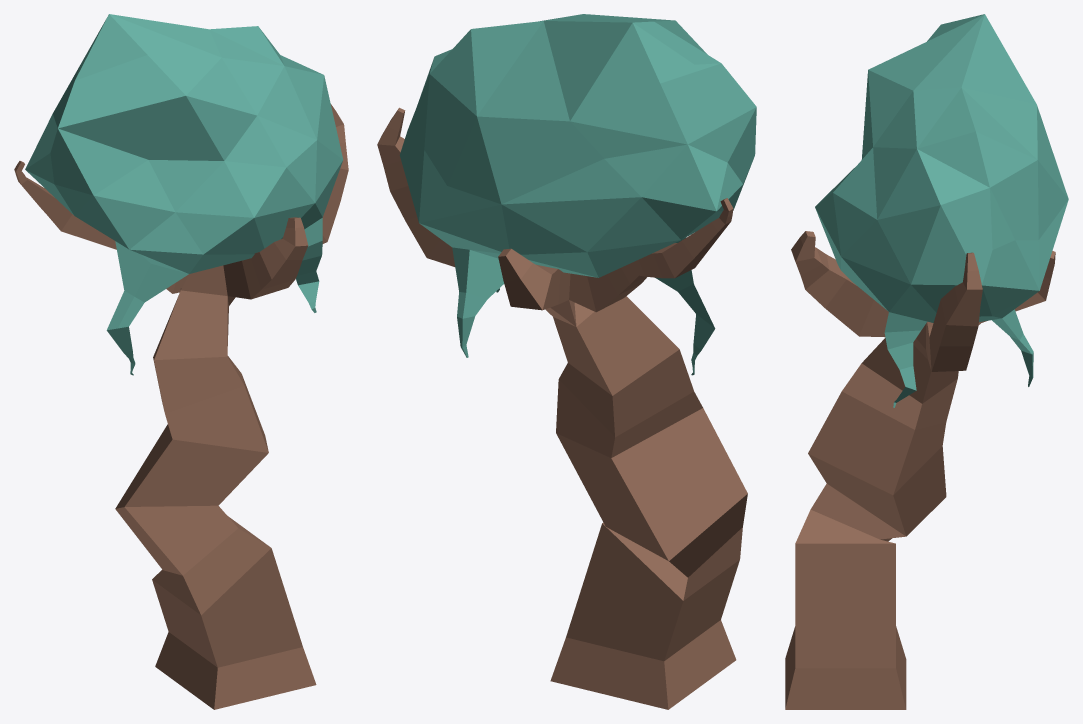
The model's file is tree3.fbx.
The picture shows the model from 3 angles, left to right: view 1: azimuth 30°, elevation 25°; view 2: azimuth 150°, elevation 25°; view 3: azimuth 270°, elevation 25°; orthographic projection. The views are drawn at different scales.
Visible parts, largest first — view 1: Icosphere, Plane; view 2: Icosphere, Plane; view 3: Icosphere, Plane.
Part boxes in pixels (left/top/right/bottom): Icosphere: left=25, top=14, right=343, bottom=375; Plane: left=14, top=104, right=348, bottom=709; Icosphere: left=399, top=14, right=756, bottom=375; Plane: left=377, top=107, right=747, bottom=709; Icosphere: left=815, top=14, right=1068, bottom=407; Plane: left=785, top=231, right=1055, bottom=709.
Bounding box in the file's own units: 46.32 × 87.62 × 35.13.
